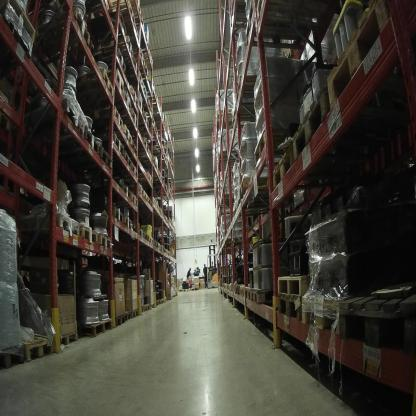forklift: (204, 240, 222, 293)
pallet: (293, 86, 398, 176), (322, 1, 402, 117), (334, 284, 415, 355), (272, 139, 370, 191), (298, 279, 358, 352), (23, 6, 94, 64), (13, 99, 85, 149), (244, 2, 319, 50), (81, 10, 129, 56), (49, 125, 101, 166), (11, 211, 86, 239), (253, 126, 302, 166), (2, 2, 40, 48), (64, 66, 115, 99), (256, 1, 320, 26), (18, 326, 52, 373), (234, 71, 273, 102), (87, 48, 126, 77), (273, 292, 301, 327), (251, 279, 286, 307), (74, 315, 113, 339), (81, 106, 124, 127), (1, 340, 29, 372), (94, 131, 124, 158), (105, 33, 135, 60), (47, 328, 78, 354), (274, 272, 312, 293), (231, 104, 260, 131), (108, 2, 136, 29), (228, 203, 271, 220), (240, 175, 273, 195), (229, 2, 253, 28), (94, 145, 114, 175), (98, 1, 143, 14), (236, 196, 269, 213), (95, 206, 123, 226), (118, 107, 140, 128), (108, 183, 133, 201), (105, 71, 125, 91), (125, 56, 140, 81), (79, 223, 98, 242), (111, 93, 131, 111), (126, 25, 142, 47), (214, 104, 236, 120), (97, 232, 114, 252), (218, 151, 244, 163), (132, 13, 146, 35), (127, 179, 144, 197), (120, 145, 133, 168), (139, 34, 154, 53), (140, 48, 155, 66), (120, 124, 133, 144), (132, 48, 146, 66), (134, 134, 149, 149), (142, 78, 157, 93), (214, 120, 236, 130), (244, 283, 256, 301), (134, 172, 154, 182), (139, 63, 150, 81), (131, 85, 140, 107), (135, 147, 153, 158), (146, 208, 164, 219), (113, 313, 125, 329), (136, 99, 145, 119), (139, 157, 159, 166), (136, 114, 150, 126), (136, 73, 145, 91), (131, 158, 138, 180), (151, 145, 165, 156), (123, 215, 132, 232), (130, 187, 138, 206), (132, 137, 139, 157), (144, 128, 159, 137), (144, 165, 159, 174), (124, 309, 132, 325), (240, 283, 248, 299), (233, 281, 241, 297), (152, 171, 163, 182), (146, 118, 156, 129), (145, 102, 154, 114), (143, 187, 150, 202), (131, 308, 139, 321), (142, 85, 148, 100), (138, 226, 145, 238), (152, 237, 159, 249), (256, 214, 264, 223), (148, 233, 154, 245), (229, 280, 234, 293), (138, 305, 145, 314), (143, 232, 150, 241), (148, 198, 153, 210), (151, 195, 157, 205), (253, 216, 257, 229), (149, 302, 155, 310), (145, 304, 150, 312), (157, 300, 162, 308), (157, 242, 161, 252), (157, 203, 162, 211), (161, 245, 165, 254), (160, 298, 165, 305), (154, 300, 159, 306)
